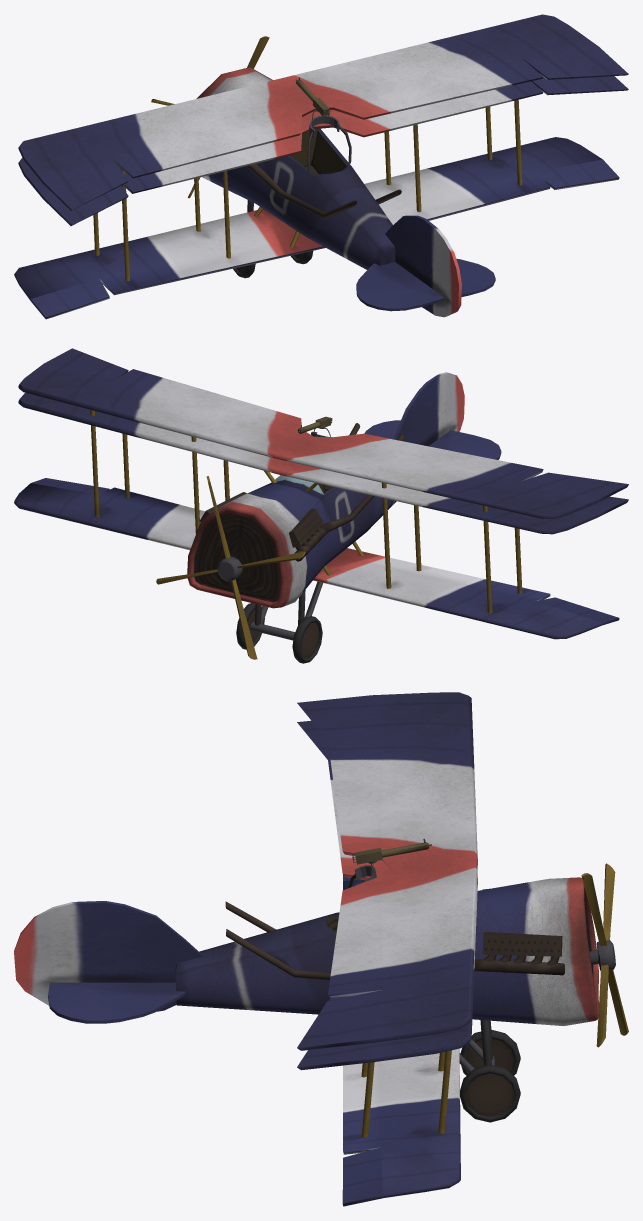
Rendered from bristolf2b.fbx.
3 views of the same model, one above another, from view 1: azimuth 30°, elevation 25°; view 2: azimuth 150°, elevation 25°; view 3: azimuth 270°, elevation 25° (orthographic). The views are drawn at different scales.
Visible parts, largest first — view 1: Plane Body002; view 2: Plane Body002; view 3: Plane Body002.
Boxes of the visible parts, <box> form: Plane Body002: <box>14,14,628,319</box>; Plane Body002: <box>14,348,628,663</box>; Plane Body002: <box>14,692,628,1206</box>.
Size of the model in its own units: 164 by 57.47 by 120.
1 material, 1 textured.
